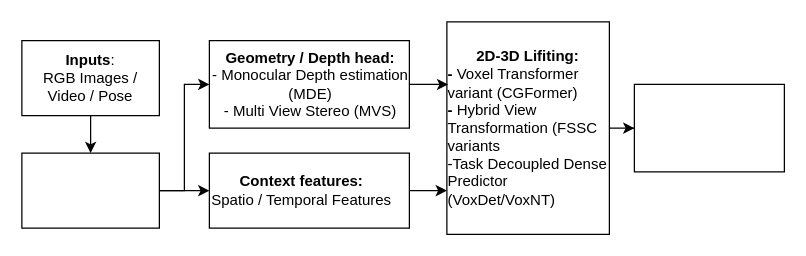
The diagram is 806 pixels wide and 256 high, and some of its shapes have lost their labels. The shapes that lost their labels are listed below. From the top down, each one's centre as x and y in pixels, then its label:
the point at 708,127: Output: 3D Semantic Occupancy
the point at 90,190: Foundation model: Vjepa2.1 / Dinov3
